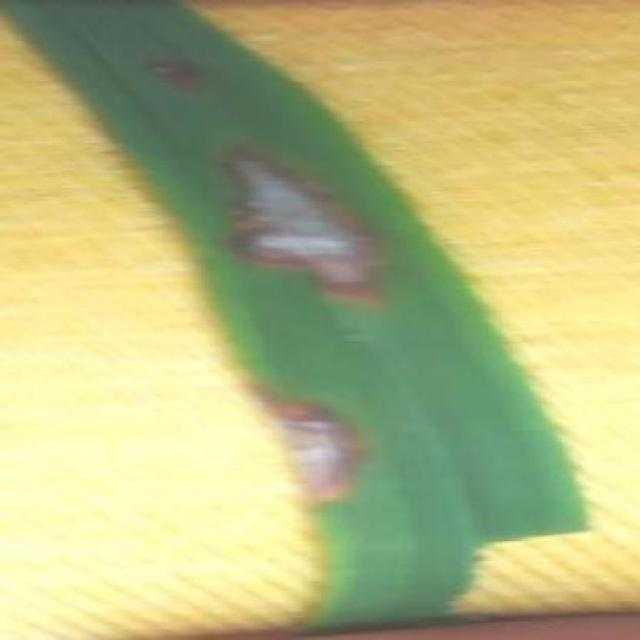Bacterial_Leaf_Blight: (204, 120, 402, 322), (225, 375, 383, 513), (121, 32, 250, 116), (17, 0, 225, 23)
